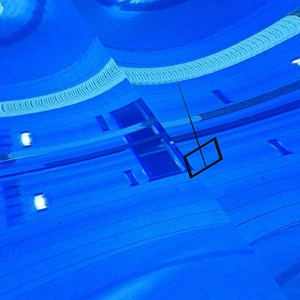circle: (172, 81, 225, 182)
